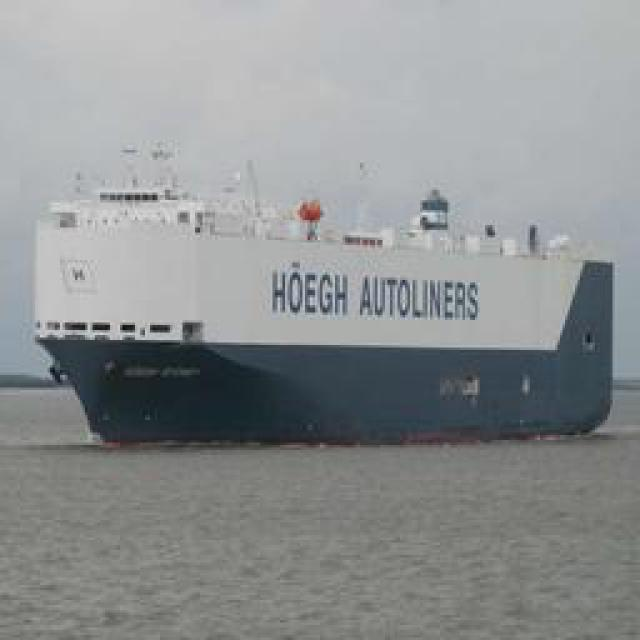Ship: (28, 125, 616, 443)
